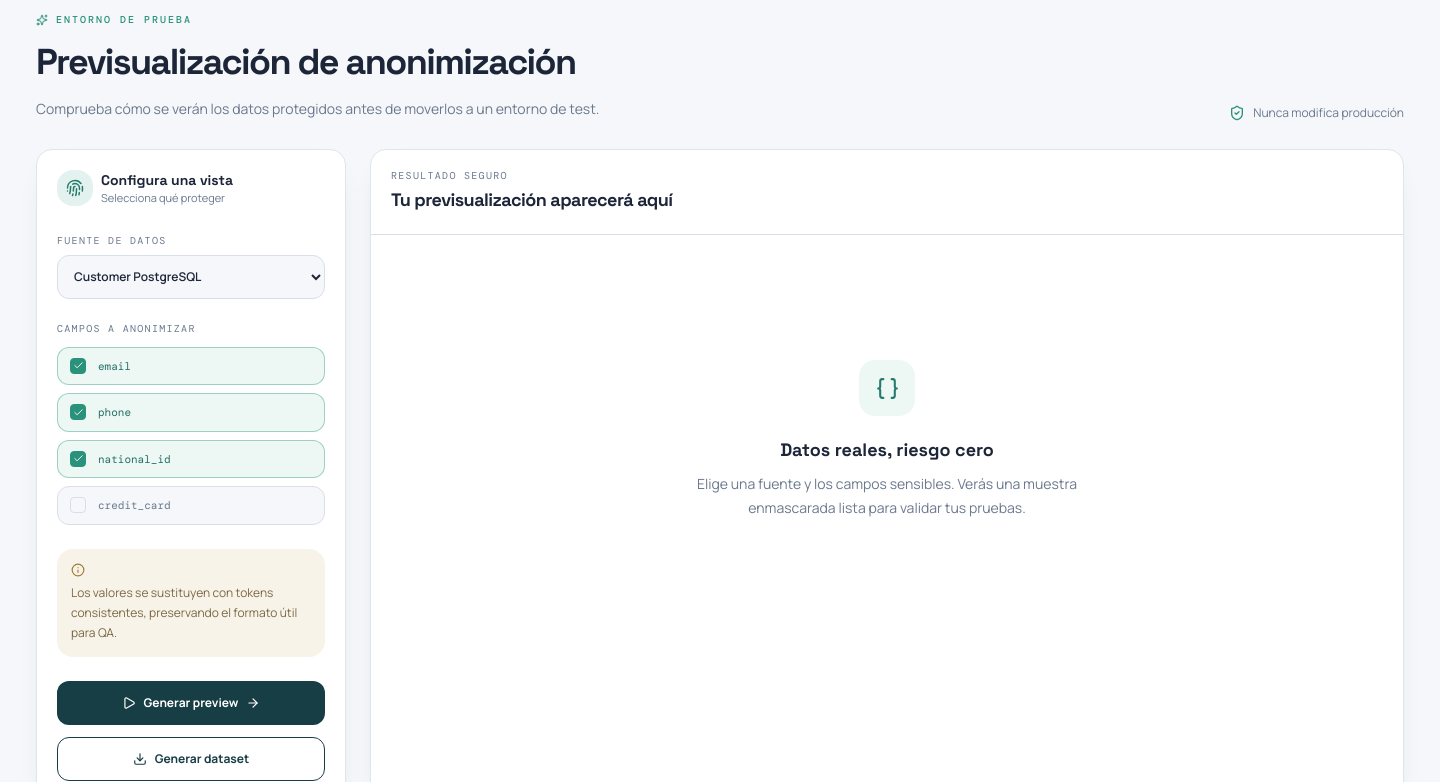
Test: MaskingPage › shows an inline error when the creation fails
The image size is (1440, 782).
Click the button with test id "button-submit-masking-job": x=191, y=758 [57,736,325,780]
(page scrolled)
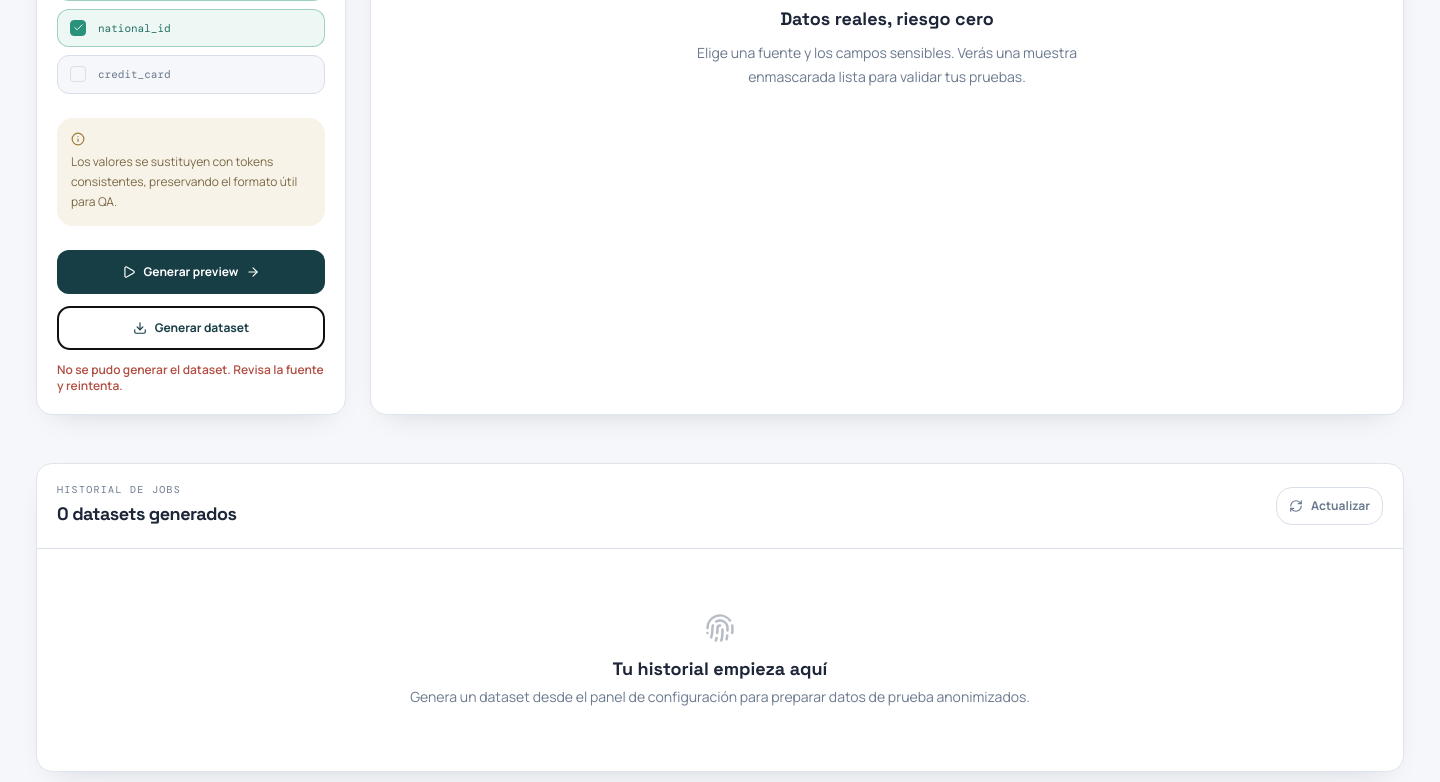
Check: the text with test id "error-masking-job" shows "No se pudo generar el dataset", box [57,360,324,394]
